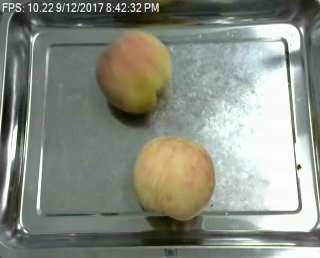Peach: (133, 137, 215, 220), (95, 30, 172, 115)
